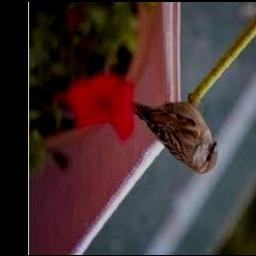Sparrow: (132, 93, 219, 175)
